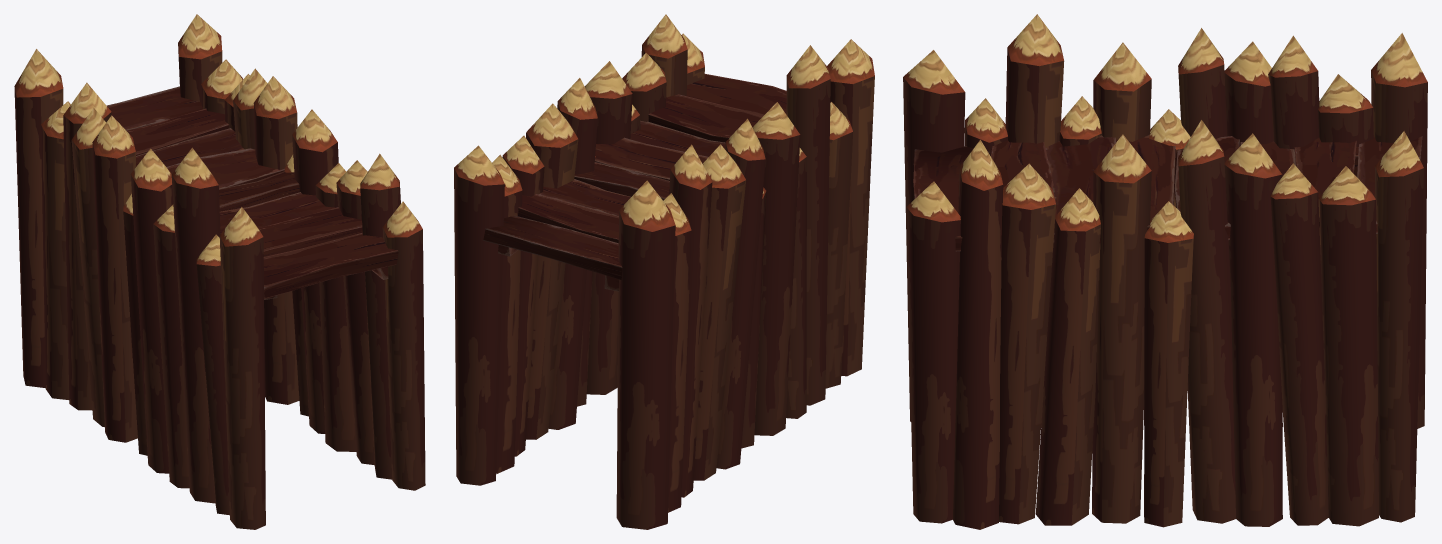
The model's file is Wall 1.fbx.
3 renders of one model, left to right at view 1: azimuth 30°, elevation 25°; view 2: azimuth 150°, elevation 25°; view 3: azimuth 270°, elevation 25°, orthographic. The views are drawn at different scales.
Visible parts, largest first — view 1: SM_PROP_wall_wood20; view 2: SM_PROP_wall_wood20; view 3: SM_PROP_wall_wood20.
Boxes of the visible parts, left/top/right/bottom form: SM_PROP_wall_wood20: left=14, top=14, right=425, bottom=529; SM_PROP_wall_wood20: left=454, top=14, right=874, bottom=529; SM_PROP_wall_wood20: left=903, top=14, right=1427, bottom=529.
Size of the model in its own units: 360 by 531 by 626.
